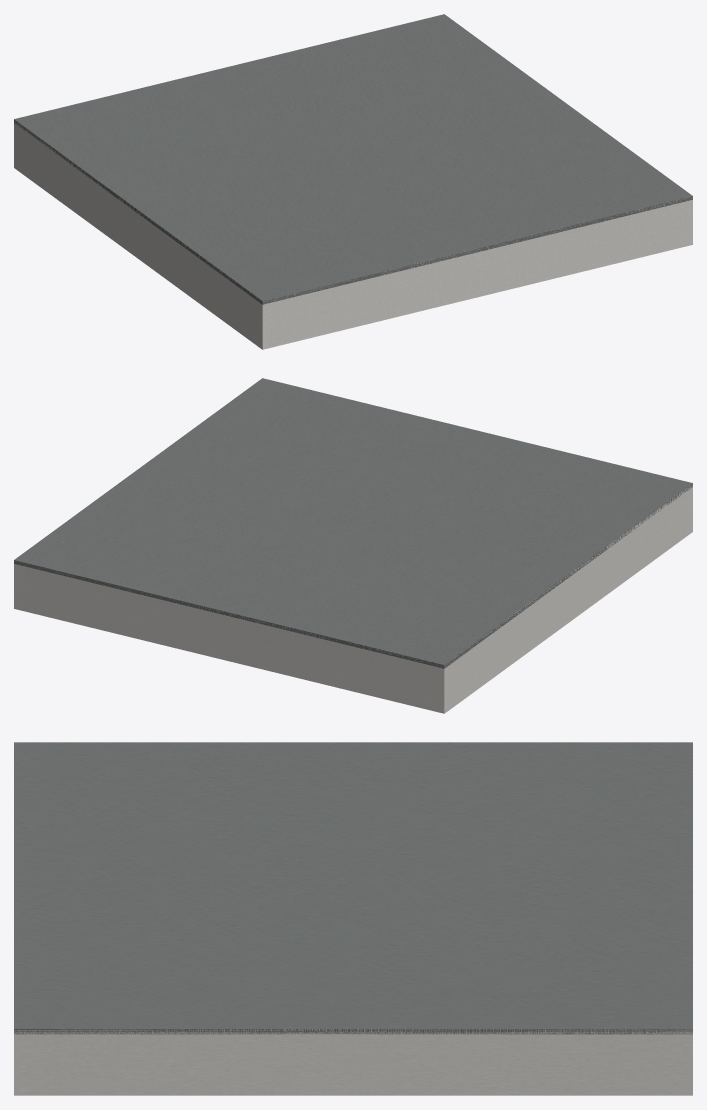
The model's file is ceiling_diffuser_01.glb.
3 views of the same model, one above another, from view 1: azimuth 30°, elevation 25°; view 2: azimuth 150°, elevation 25°; view 3: azimuth 270°, elevation 25° (orthographic). The views are drawn at different scales.
Parts seen in each view (by area): view 1: core_ceiling_diffuser_01; view 2: core_ceiling_diffuser_01; view 3: core_ceiling_diffuser_01.
Boxes of the visible parts, x1,y1,x2,y2 form: core_ceiling_diffuser_01: (14, 14, 692, 349); core_ceiling_diffuser_01: (14, 378, 692, 713); core_ceiling_diffuser_01: (14, 742, 692, 1095).
Size of the model in its own units: 0.6 by 0.065 by 0.6.
1 material, 1 textured.
